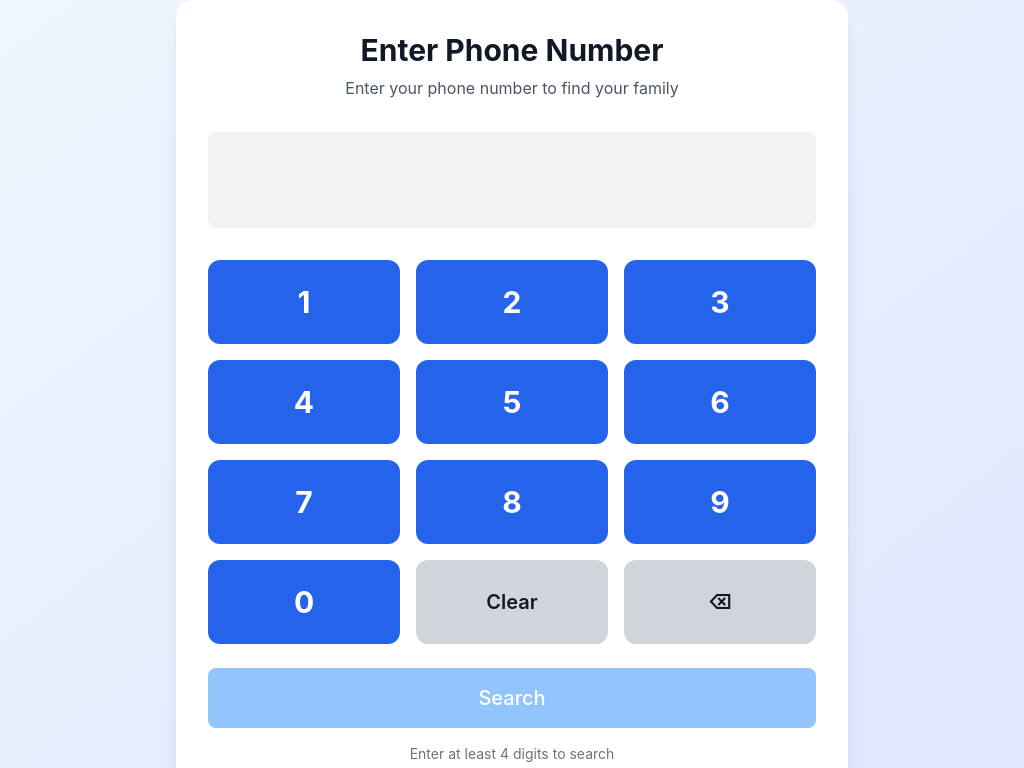
PhoneSearch › should update phone display when digits clicked
The image size is (1024, 768).
Click the button "5". click: (512, 402)
box: top-left (416, 360), bottom-right (608, 444)
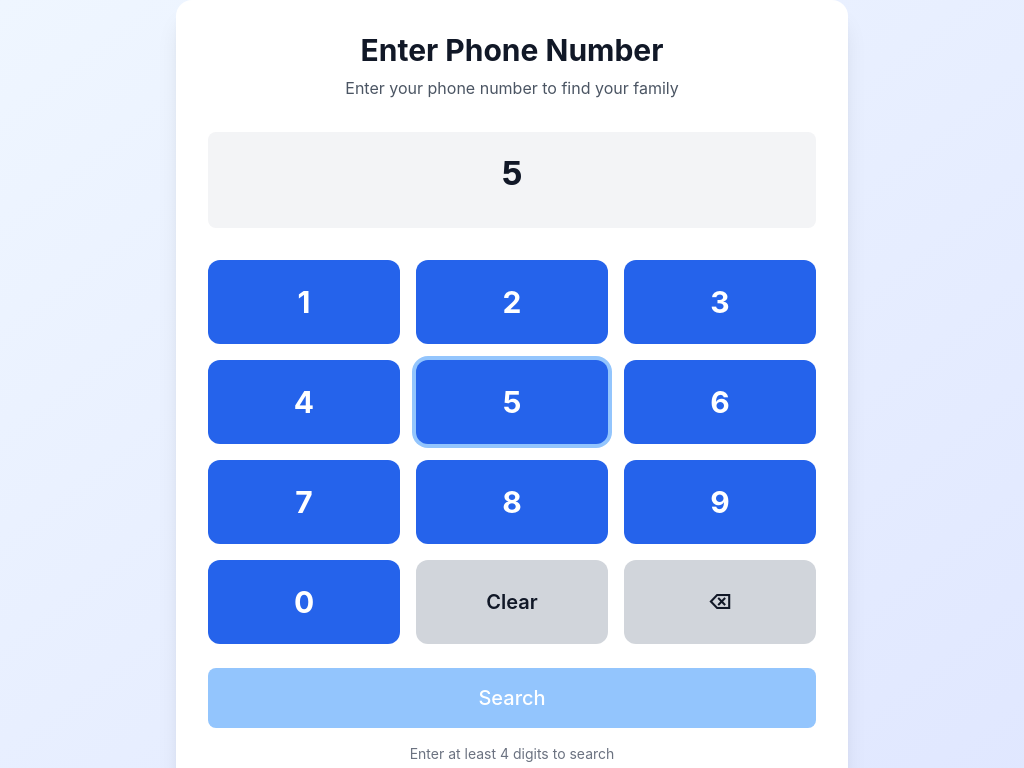
Click the button "5". click: (512, 402)
box: top-left (416, 360), bottom-right (608, 444)
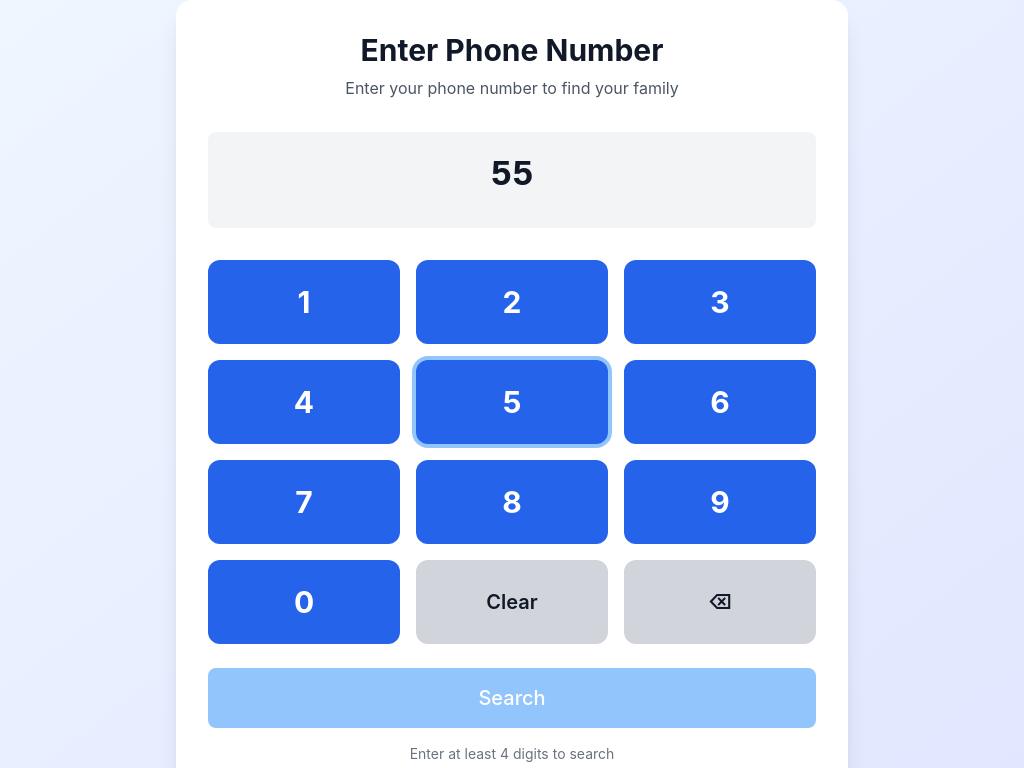
Click the button "5". click: (512, 402)
box: top-left (416, 360), bottom-right (608, 444)
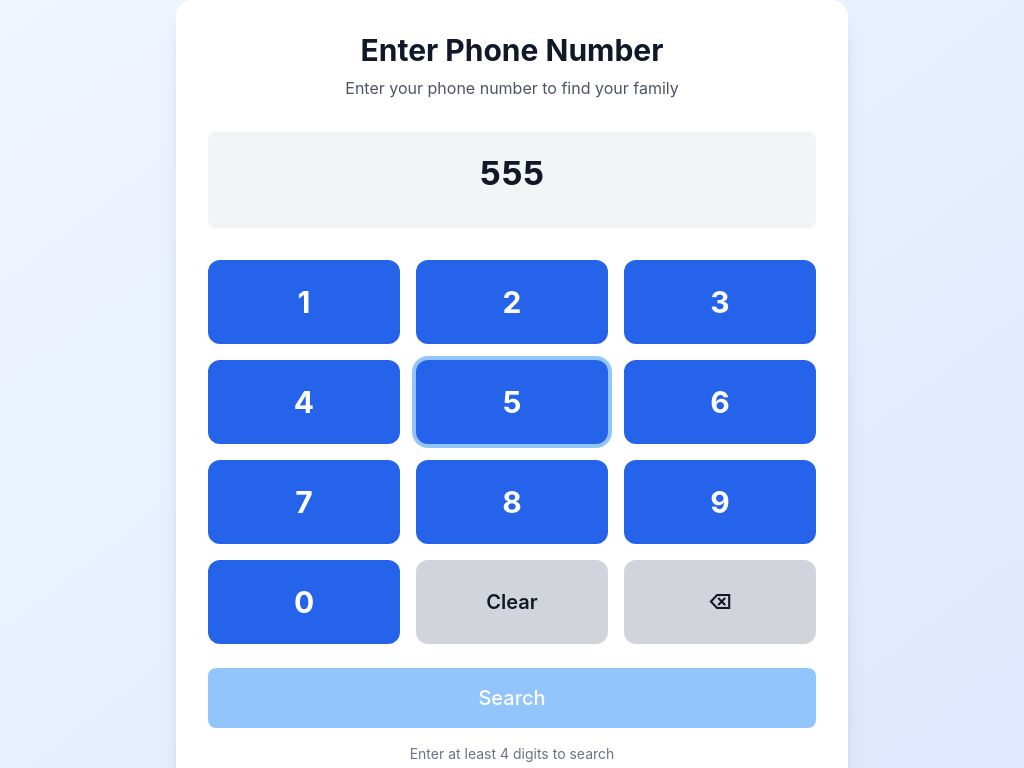
Check: the text "555" is shown, box top-left (480, 155), bottom-right (544, 196)
